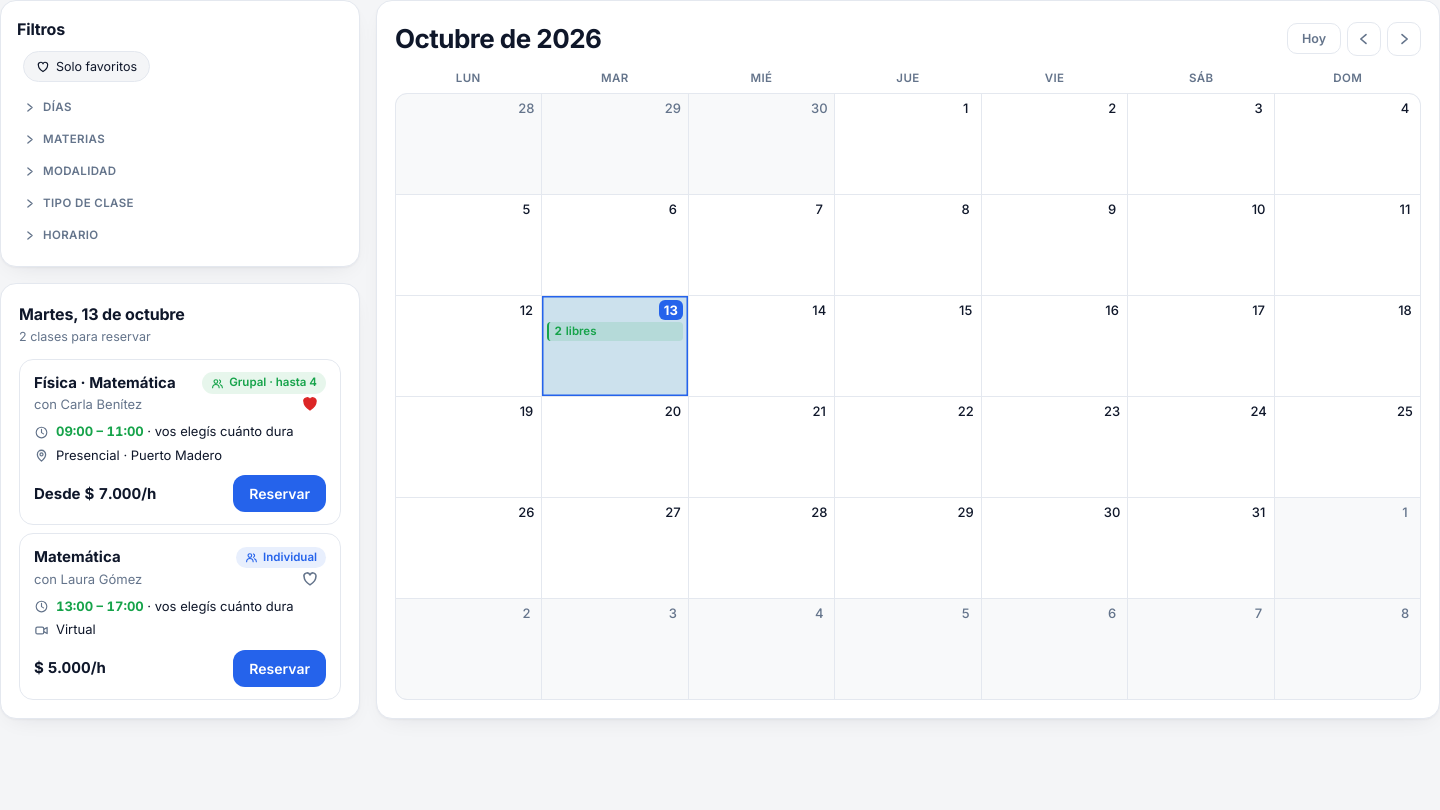
Test: BookingBoard › "Solo favoritos" deja solo los horarios de docentes favoritos
Expected: the text "13:00 – 17:00" is shown, [56,598,144,614]
Click the button "Solo favoritos": {"x": 86, "y": 66} [23,51,150,82]
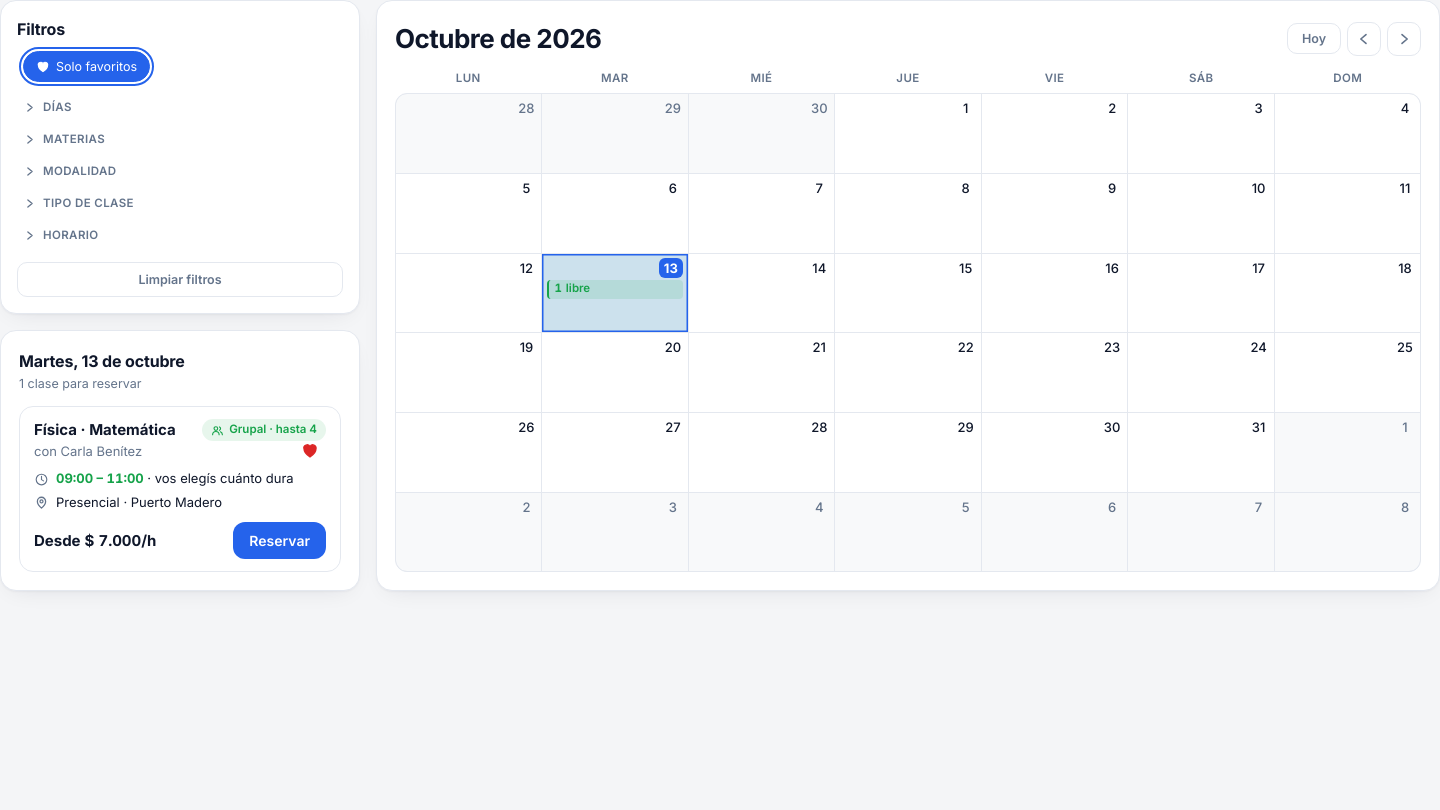
Expected: the text "09:00 – 11:00" is shown, [56,470,144,486]
Now the text "13:00 – 17:00" is gone
